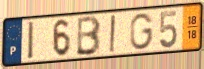5: (158, 8, 179, 49)
6: (52, 18, 72, 59)
B: (75, 14, 102, 57)
G: (129, 12, 155, 52)
I: (108, 14, 117, 54), (27, 20, 35, 62)
